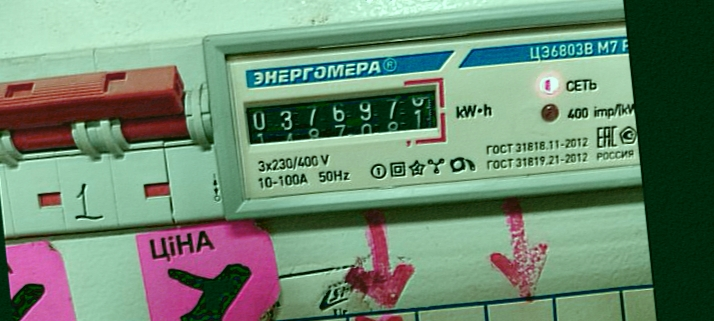0: (251, 109, 268, 133)
1: (412, 108, 424, 131)
3: (279, 110, 294, 132)
6: (330, 100, 347, 125)
7: (304, 104, 321, 128), (384, 96, 400, 120)
9: (357, 100, 373, 123)
screen: (233, 74, 453, 167)
